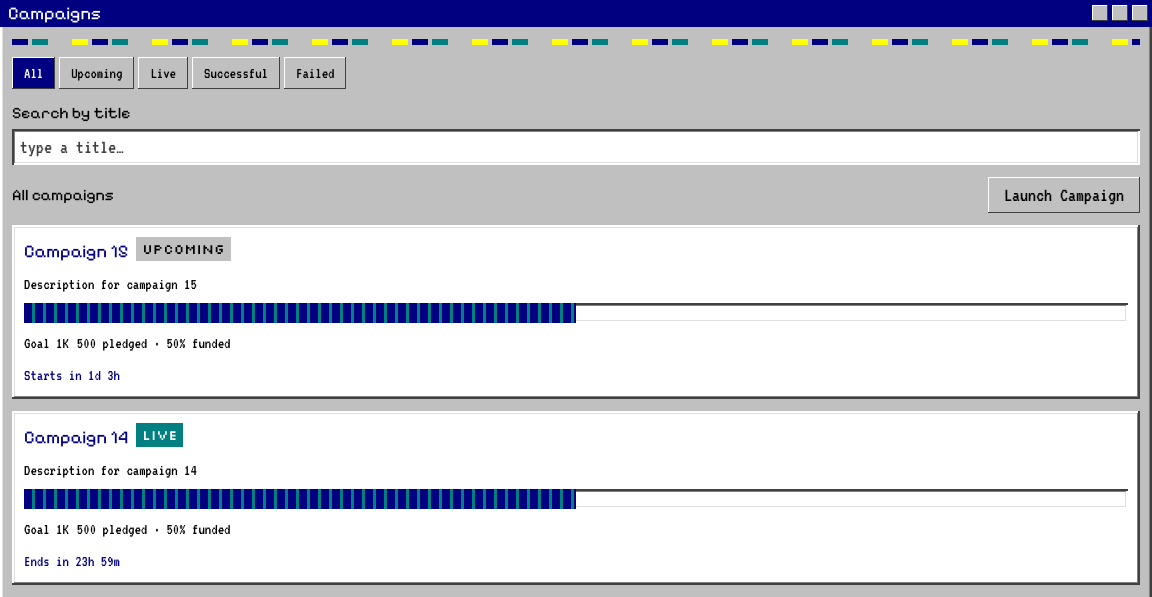
Test: CampaignListWindow list behaviour › filters by status tab (upcoming is id15)
The image size is (1152, 597).
Click the button with test id "filter-upcoming" at (97, 72), box [59,56,134,88]
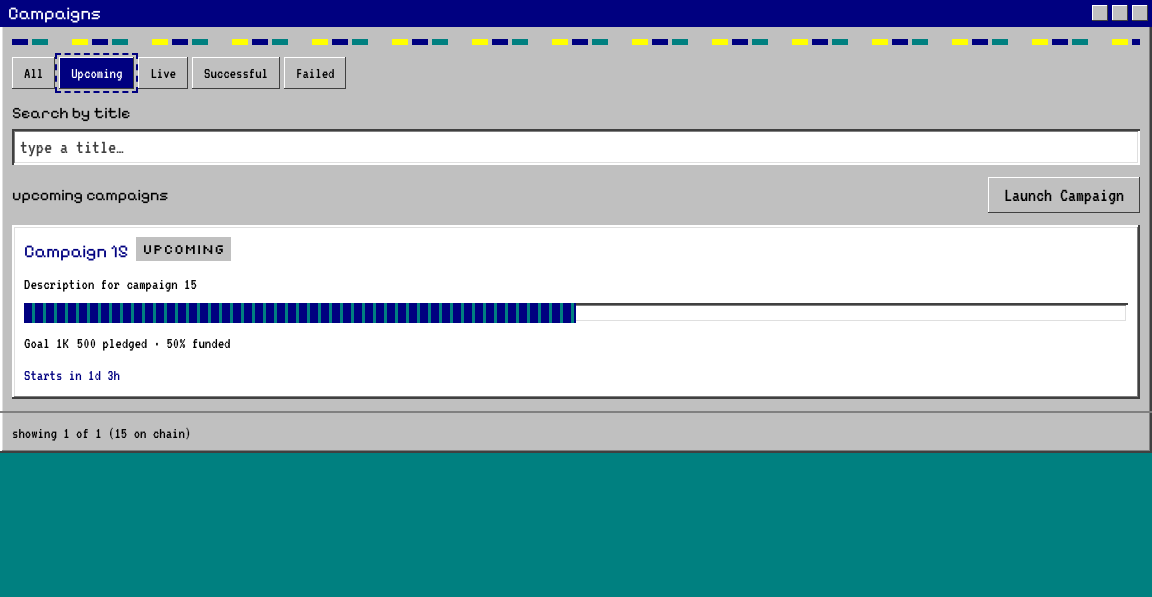
Expected: the number of buttons with test id "campaign-card" is 1, [12,224,1140,398]
